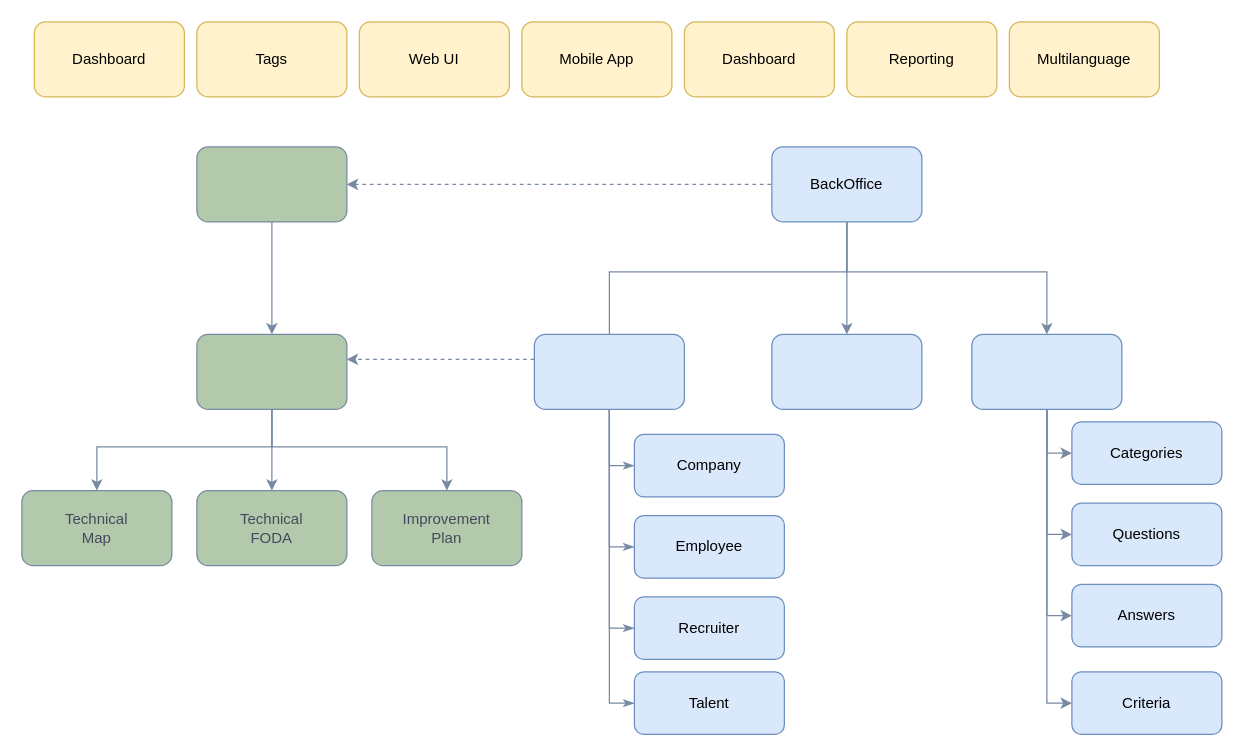
This 1244x756 diagram has some shape labels left out. Here are the shapes that lost their labels. From the top down, the box of each, then its label:
(196, 146, 347, 222): GrowMe
(196, 333, 347, 409): Me
(533, 333, 684, 409): Master Data
(771, 333, 922, 409): Review Plan
(971, 333, 1122, 409): Topic
